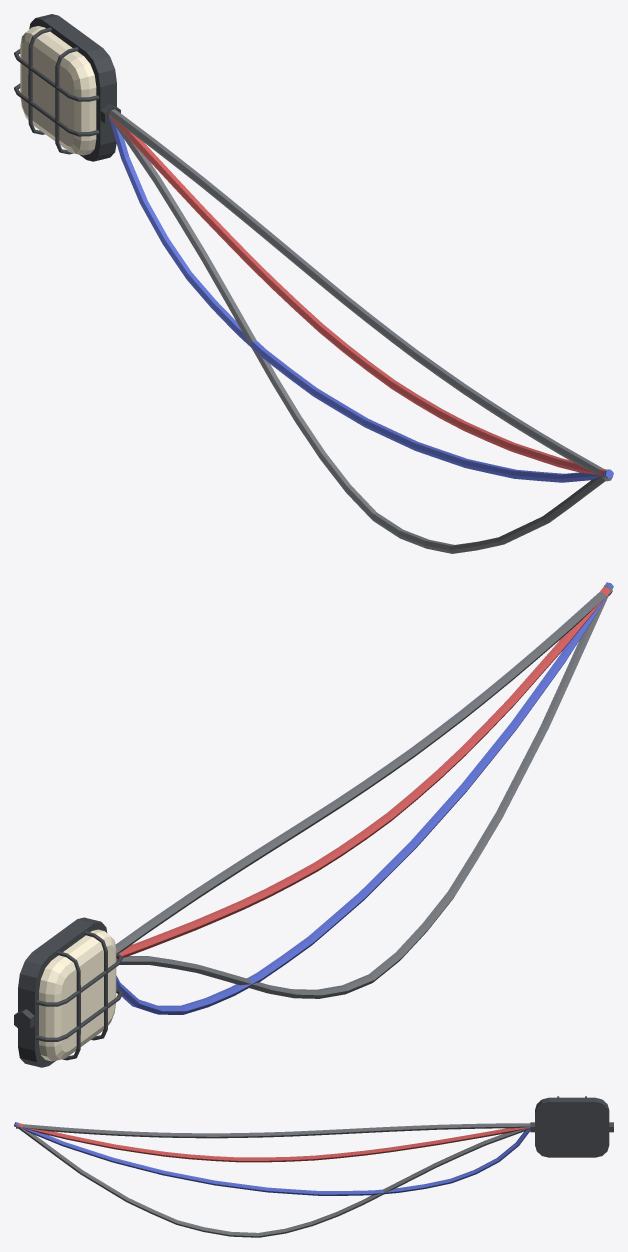
The model's file is Light_WithWires.fbx.
3 renders of one model, top to bottom at view 1: azimuth 30°, elevation 25°; view 2: azimuth 150°, elevation 25°; view 3: azimuth 270°, elevation 25°, orthographic. The views are drawn at different scales.
Visible parts, largest first — view 1: Light_WithWires; view 2: Light_WithWires; view 3: Light_WithWires.
Part boxes in pixels (left/top/right/bottom): Light_WithWires: left=14, top=14, right=613, bottom=553; Light_WithWires: left=14, top=582, right=613, bottom=1067; Light_WithWires: left=14, top=1096, right=613, bottom=1237.
Bounding box in the file's own units: 7.87 × 51.31 × 203.
